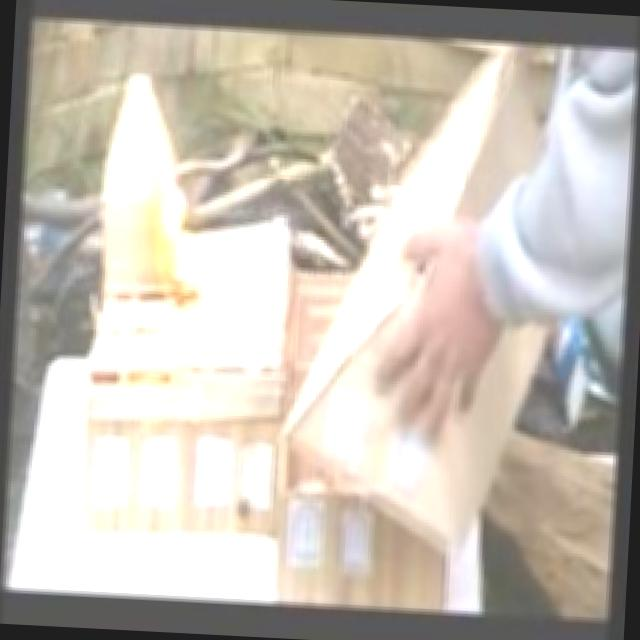fire: (130, 178, 208, 300)
